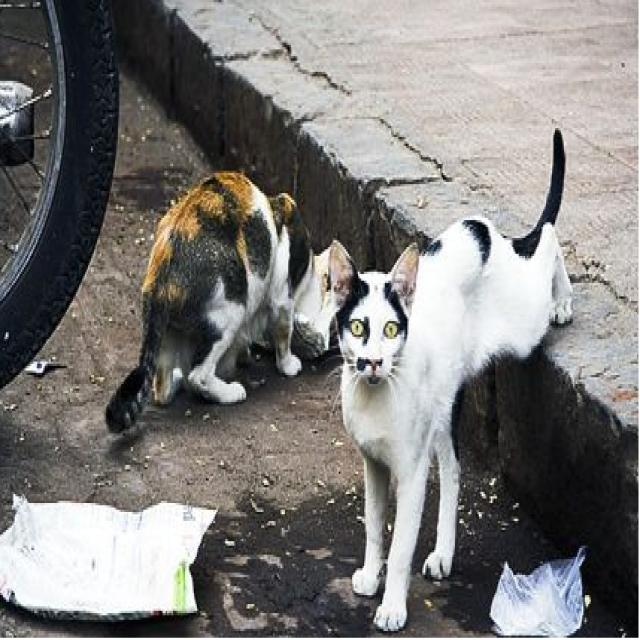cat: (330, 130, 571, 629), (106, 171, 311, 432)
